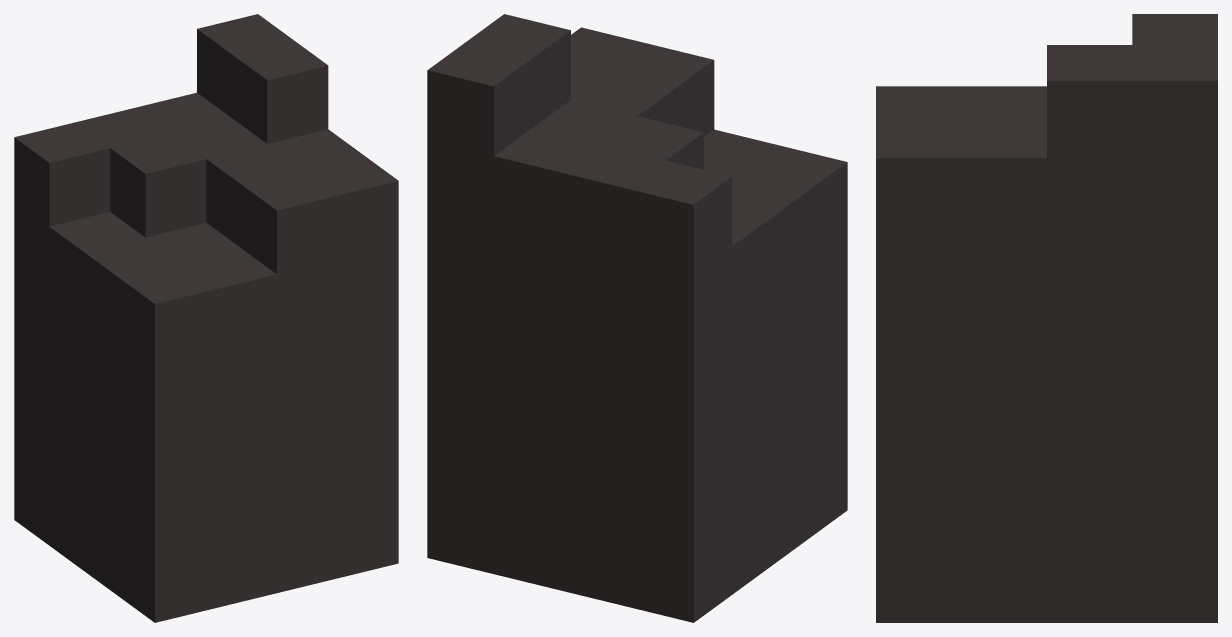
File: panda__leg_bl.glb
3 renders of one model, left to right at view 1: azimuth 30°, elevation 25°; view 2: azimuth 150°, elevation 25°; view 3: azimuth 270°, elevation 25°, orthographic. The views are drawn at different scales.
Visible parts, largest first — view 1: panda__leg_bl; view 2: panda__leg_bl; view 3: panda__leg_bl.
Boxes of the visible parts, x1=… form: panda__leg_bl: x1=14, y1=14, x2=398, y2=622; panda__leg_bl: x1=427, y1=14, x2=847, y2=622; panda__leg_bl: x1=876, y1=14, x2=1217, y2=622.
Bounding box in the file's own units: 0.4 × 0.7 × 0.4.
1 material, 1 textured.
